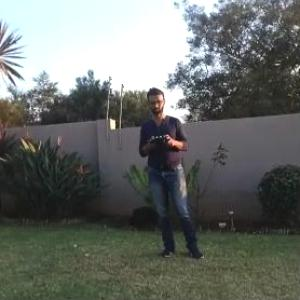follow: (136, 82, 210, 261)
